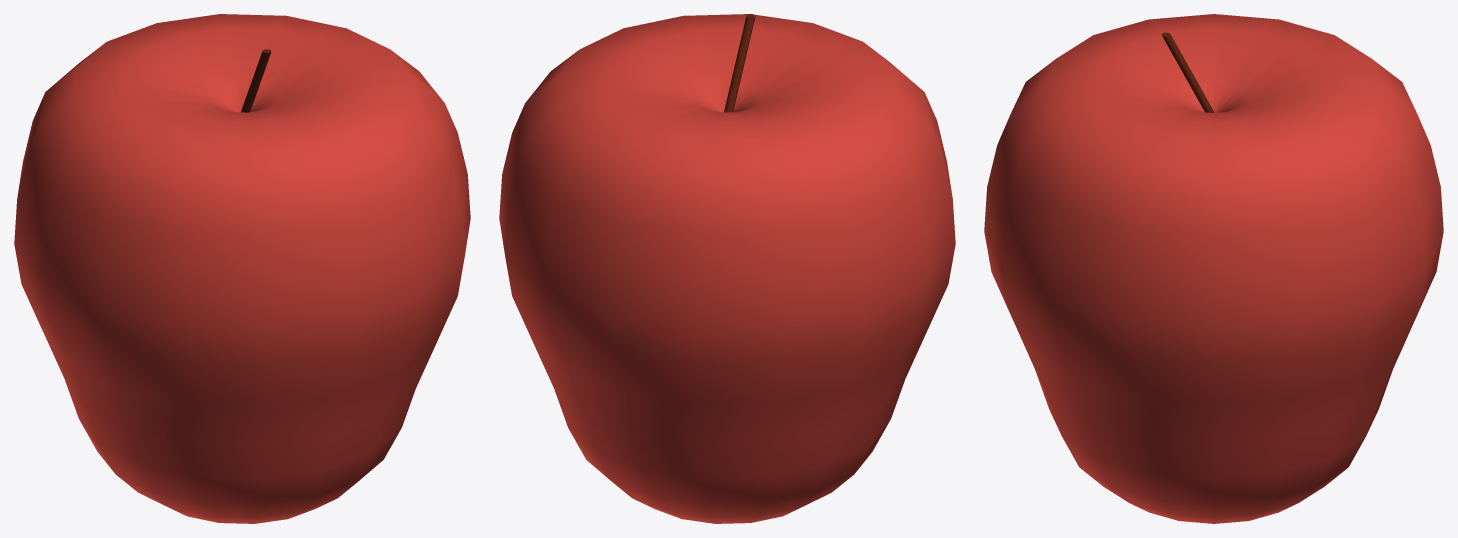
The model's file is apple.fbx.
The picture shows the model from 3 angles, left to right: view 1: azimuth 30°, elevation 25°; view 2: azimuth 150°, elevation 25°; view 3: azimuth 270°, elevation 25°; orthographic projection.
Parts seen in each view (by area): view 1: Plane.001, Cylinder; view 2: Plane.001, Cylinder; view 3: Plane.001, Cylinder.
Boxes of the visible parts, left/top/right/bottom form: Plane.001: left=14, top=14, right=470, bottom=523; Cylinder: left=241, top=49, right=271, bottom=112; Plane.001: left=499, top=14, right=955, bottom=523; Cylinder: left=724, top=14, right=755, bottom=112; Plane.001: left=984, top=14, right=1443, bottom=523; Cylinder: left=1161, top=32, right=1214, bottom=112.
Bounding box in the file's own units: 136 × 147 × 136.
